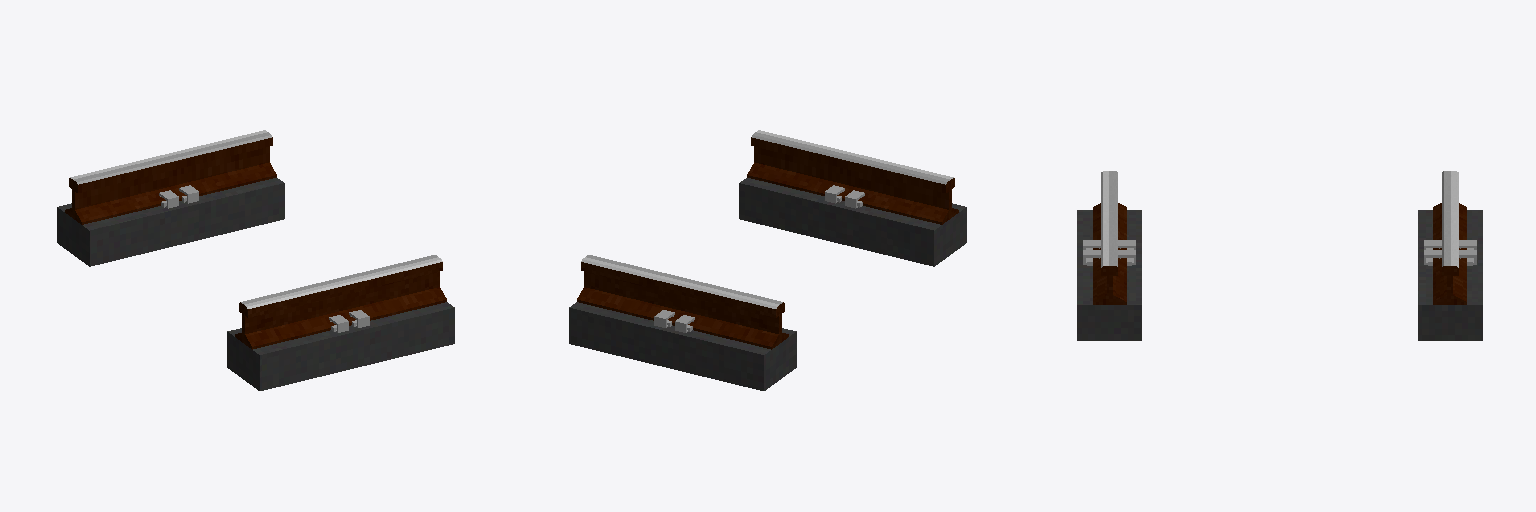
The picture shows the model from 3 angles: view 1: azimuth 30°, elevation 25°; view 2: azimuth 150°, elevation 25°; view 3: azimuth 270°, elevation 25°; orthographic projection.
Visible parts, largest first — view 1: RAIL_BASE_Cube.002, RAIL_RIGHT_Cube.005, RAIL_LEFT_Cube.001; view 2: RAIL_BASE_Cube.002, RAIL_LEFT_Cube.001, RAIL_RIGHT_Cube.005; view 3: RAIL_BASE_Cube.002, RAIL_LEFT_Cube.001, RAIL_RIGHT_Cube.005.
Boxes of the visible parts, x1=… form: RAIL_BASE_Cube.002: x1=57, y1=178, x2=454, y2=390; RAIL_RIGHT_Cube.005: x1=65, y1=130, x2=276, y2=224; RAIL_LEFT_Cube.001: x1=235, y1=255, x2=446, y2=349; RAIL_BASE_Cube.002: x1=569, y1=178, x2=966, y2=390; RAIL_LEFT_Cube.001: x1=747, y1=130, x2=958, y2=224; RAIL_RIGHT_Cube.005: x1=577, y1=255, x2=788, y2=349; RAIL_BASE_Cube.002: x1=1077, y1=210, x2=1482, y2=340; RAIL_LEFT_Cube.001: x1=1093, y1=171, x2=1126, y2=304; RAIL_RIGHT_Cube.005: x1=1433, y1=171, x2=1466, y2=304.
Size of the model in its own units: 1 by 0.3683 by 1.8.
3 materials, 2 textured.